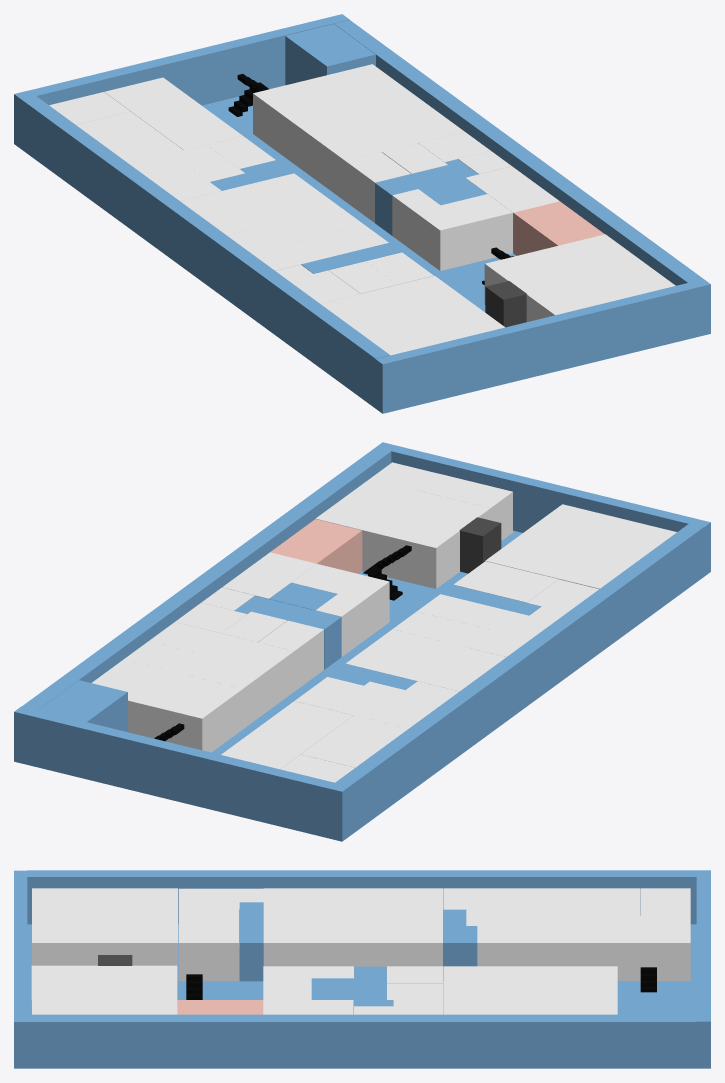
3 renders of one model, top to bottom at view 1: azimuth 30°, elevation 25°; view 2: azimuth 150°, elevation 25°; view 3: azimuth 270°, elevation 25°, orthographic. The views are drawn at different scales.
Parts seen in each view (by area): view 1: object, 心理学パソコン室2, 心理学パソコン室1, 脳波室, ゼミ44A, UNIX室コンピューター室, ゼミ44B, 女子トイレ_4_4, プレイルーム1, 準備室D, 準備室E, 脳波実験準備室 (+23 smaller); view 2: object, 心理学パソコン室1, 心理学パソコン室2, ゼミ44B, 脳波室, ゼミ44A, UNIX室コンピューター室, 女子トイレ_4_4, プレイルーム1, 準備室D, 情報処理準備室, 準備室E (+23 smaller); view 3: object, 心理学パソコン室2, ゼミ44A, 心理学パソコン室1, 準備室A, プレイルーム1, B2実験室, B1実験室, 準備室C, UNIX室コンピューター室, 脳波室, ゼミ44B (+24 smaller).
Part boxes in pixels (<box>): object: <box>14,14,710,413</box>; 心理学パソコン室2: <box>320,276,504,355</box>; 心理学パソコン室1: <box>484,234,675,321</box>; 脳波室: <box>392,189,512,270</box>; ゼミ44A: <box>104,77,242,150</box>; UNIX室コンピューター室: <box>293,94,438,181</box>; ゼミ44B: <box>253,79,351,163</box>; 女子トイレ_4_4: <box>513,201,604,255</box>; プレイルーム1: <box>180,185,292,235</box>; 準備室D: <box>319,124,417,200</box>; 準備室E: <box>345,152,410,222</box>; 脳波実験準備室: <box>465,166,559,252</box>; object: <box>14,442,710,841</box>; 心理学パソコン室1: <box>315,462,490,588</box>; 心理学パソコン室2: <box>485,504,676,588</box>; ゼミ44B: <box>144,674,242,752</box>; 脳波室: <box>291,564,389,656</box>; ゼミ44A: <box>221,701,352,769</box>; UNIX室コンピューター室: <box>124,641,267,728</box>; 女子トイレ_4_4: <box>270,519,362,573</box>; プレイルーム1: <box>394,641,506,691</box>; 準備室D: <box>195,633,294,710</box>; 情報処理準備室: <box>416,473,512,540</box>; 準備室E: <box>258,620,323,691</box>; object: <box>14,870,710,1068</box>; 心理学パソコン室2: <box>32,888,177,981</box>; ゼミ44A: <box>539,915,690,981</box>; 心理学パソコン室1: <box>32,965,177,1014</box>; 準備室A: <box>178,926,238,981</box>; プレイルーム1: <box>354,888,442,920</box>; B2実験室: <box>309,909,354,980</box>; B1実験室: <box>263,909,308,966</box>; 準備室C: <box>477,926,539,966</box>; UNIX室コンピューター室: <box>492,966,540,1014</box>; 脳波室: <box>263,966,353,999</box>; ゼミ44B: <box>540,966,617,993</box>.
Bounding box in the file's own units: 1.07 × 0.1623 × 2.09.
